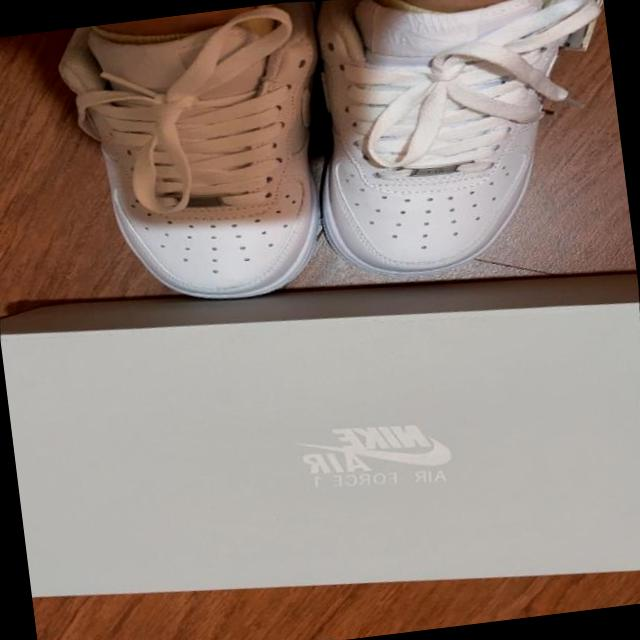nike_original_airforce: (35, 0, 353, 331), (277, 0, 599, 296)
